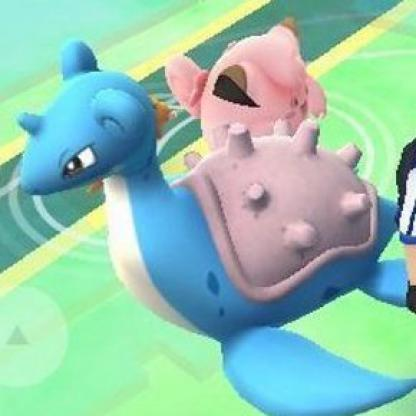Lapras: (12, 39, 416, 410)
